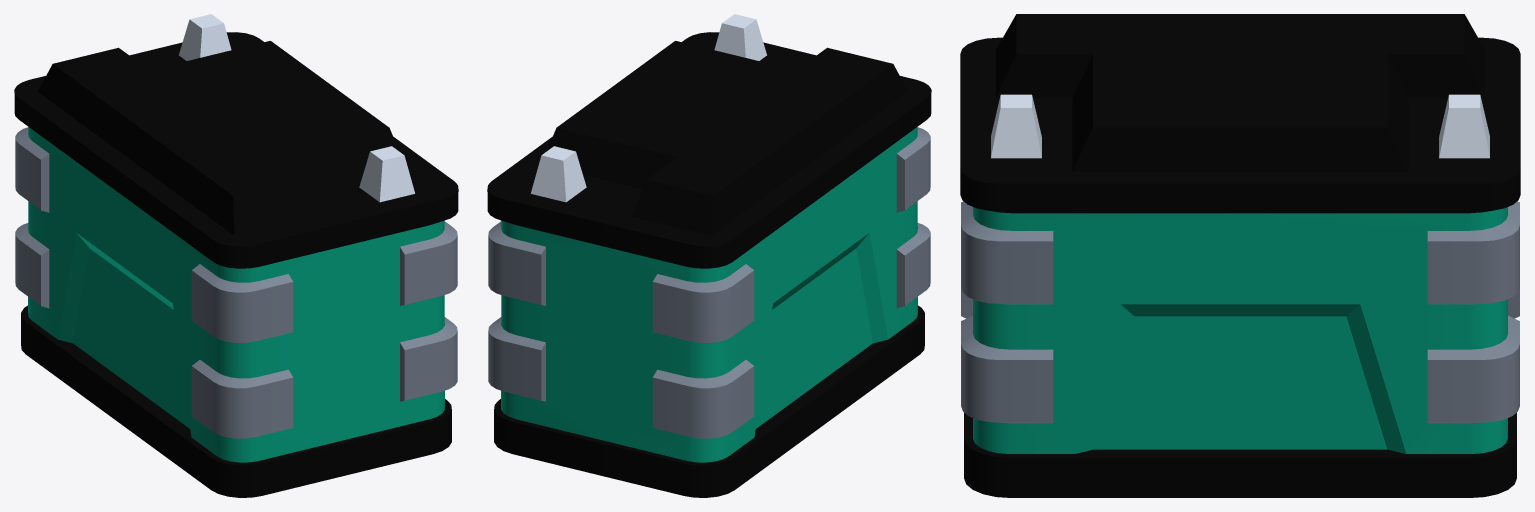
The model's file is battery.fbx.
3 renders of one model, left to right at view 1: azimuth 30°, elevation 25°; view 2: azimuth 150°, elevation 25°; view 3: azimuth 270°, elevation 25°, orthographic. The views are drawn at different scales.
Visible parts, largest first — view 1: battery; view 2: battery; view 3: battery.
Part boxes in pixels (bbox=[...]): battery: bbox=[14, 14, 458, 497]; battery: bbox=[487, 14, 931, 497]; battery: bbox=[960, 14, 1520, 497].
Size of the model in its own units: 8.84 by 10.22 by 14.33.
